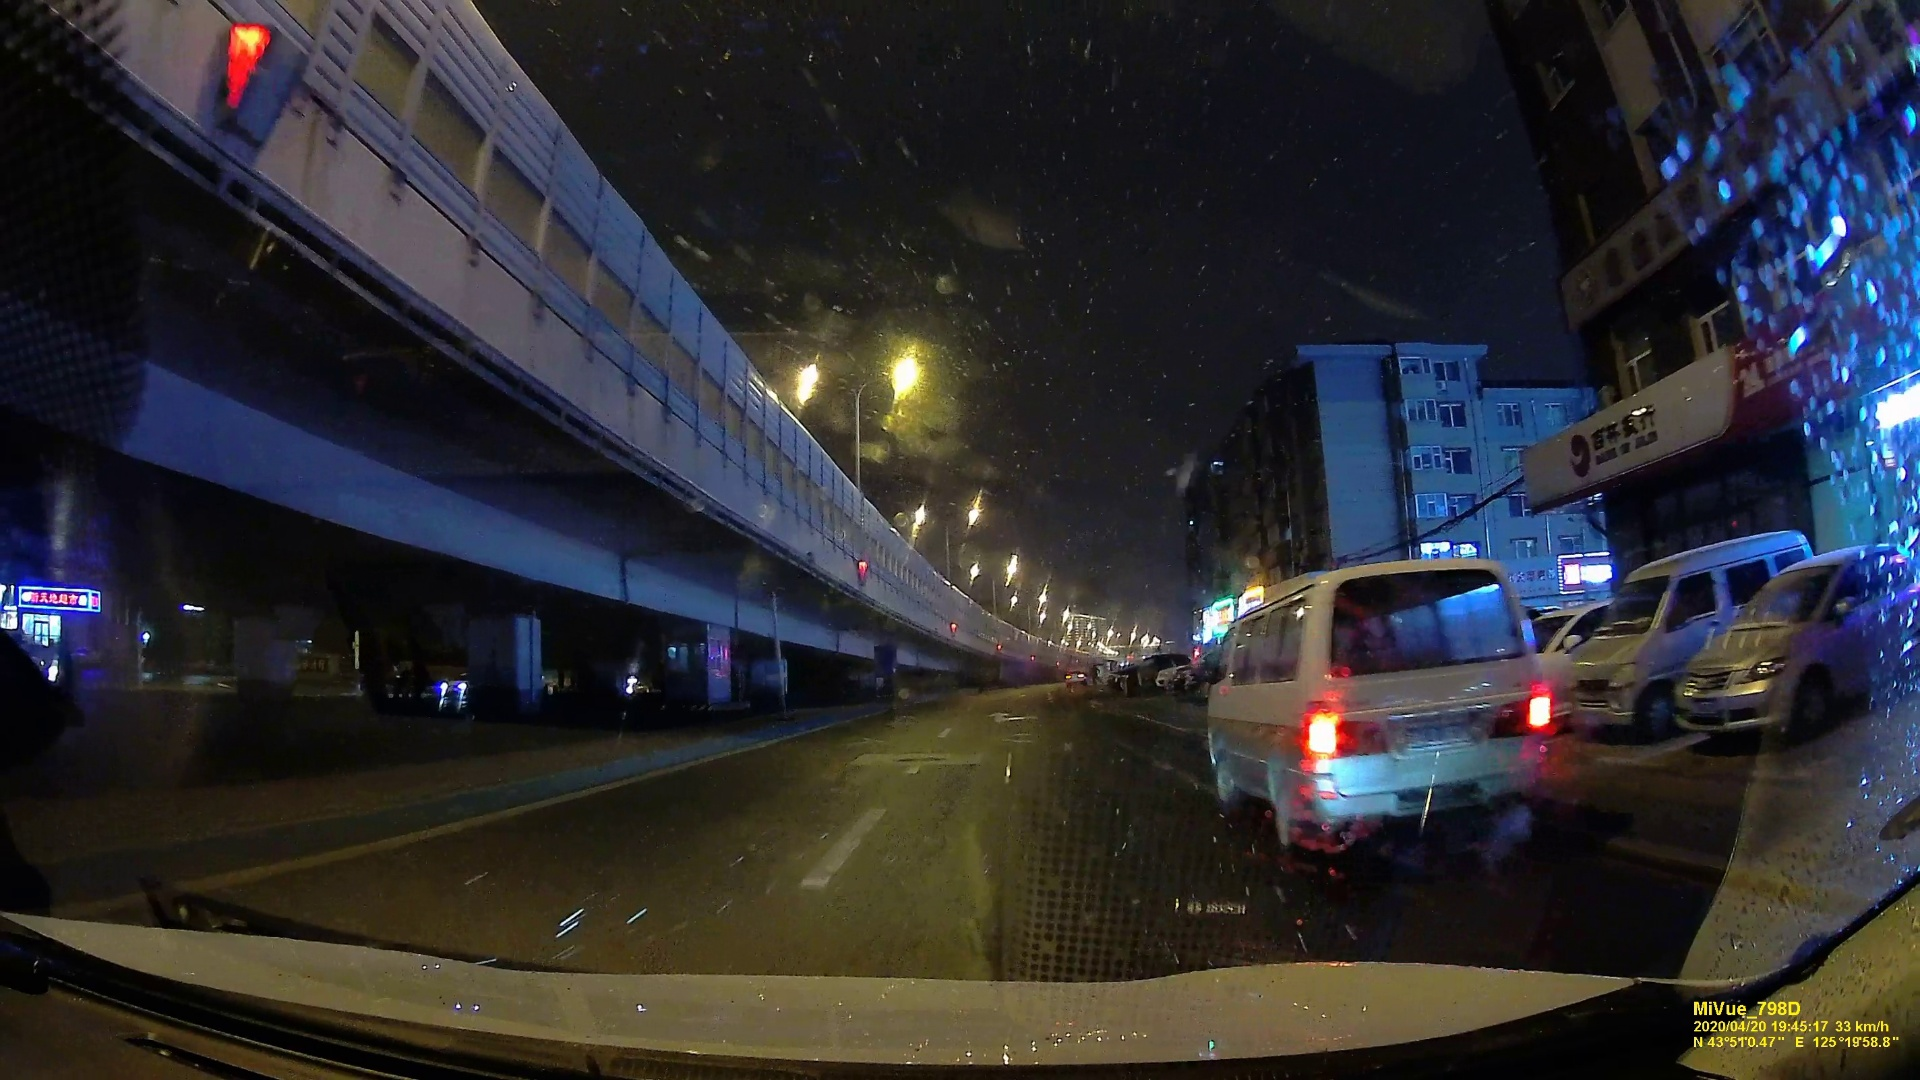minibus: (1207, 566, 1547, 855), (1567, 556, 1677, 742)
vehicle: (1683, 551, 1912, 733), (1088, 662, 1101, 688)
